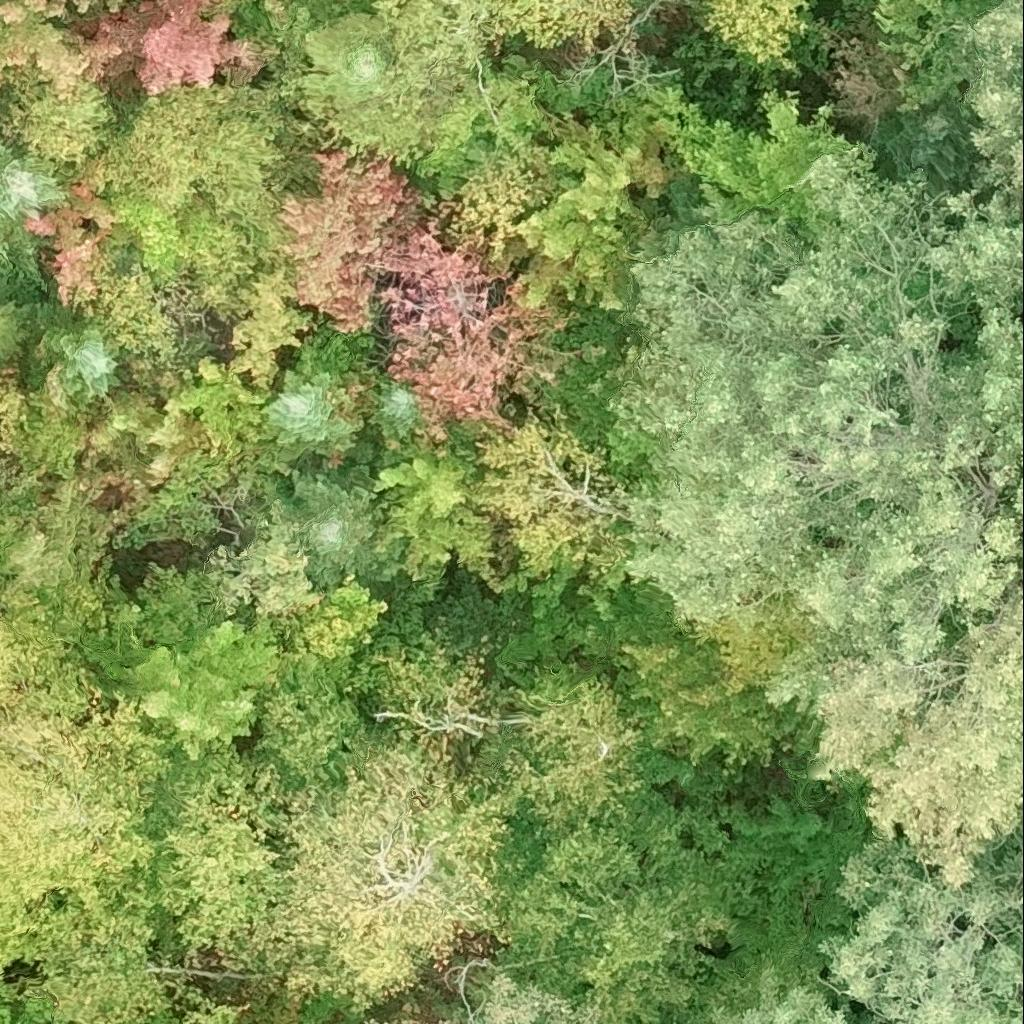crown: (621, 137, 1023, 898), (142, 631, 654, 1010), (0, 64, 303, 322), (475, 781, 763, 1023), (0, 585, 169, 972), (63, 564, 391, 761), (511, 82, 752, 308), (305, 0, 573, 168), (914, 204, 1023, 597), (74, 351, 291, 547), (416, 55, 602, 272), (821, 825, 1023, 1023), (381, 239, 565, 449), (276, 152, 452, 334), (24, 151, 224, 306), (0, 465, 136, 647), (479, 422, 636, 572), (670, 98, 848, 229), (71, 227, 208, 370), (80, 0, 266, 96), (30, 940, 238, 1023), (0, 351, 103, 507), (946, 0, 1023, 208), (274, 463, 401, 587), (0, 0, 137, 101), (231, 263, 312, 386), (297, 13, 397, 109), (887, 93, 981, 195), (702, 0, 815, 75), (0, 144, 65, 270), (875, 0, 1000, 65), (42, 316, 118, 407), (263, 370, 354, 441), (541, 0, 638, 59), (422, 979, 537, 1023), (725, 984, 842, 1023), (368, 382, 420, 438), (0, 277, 32, 358), (260, 0, 289, 27), (214, 0, 235, 13), (578, 1009, 597, 1023), (1020, 805, 1023, 820)
